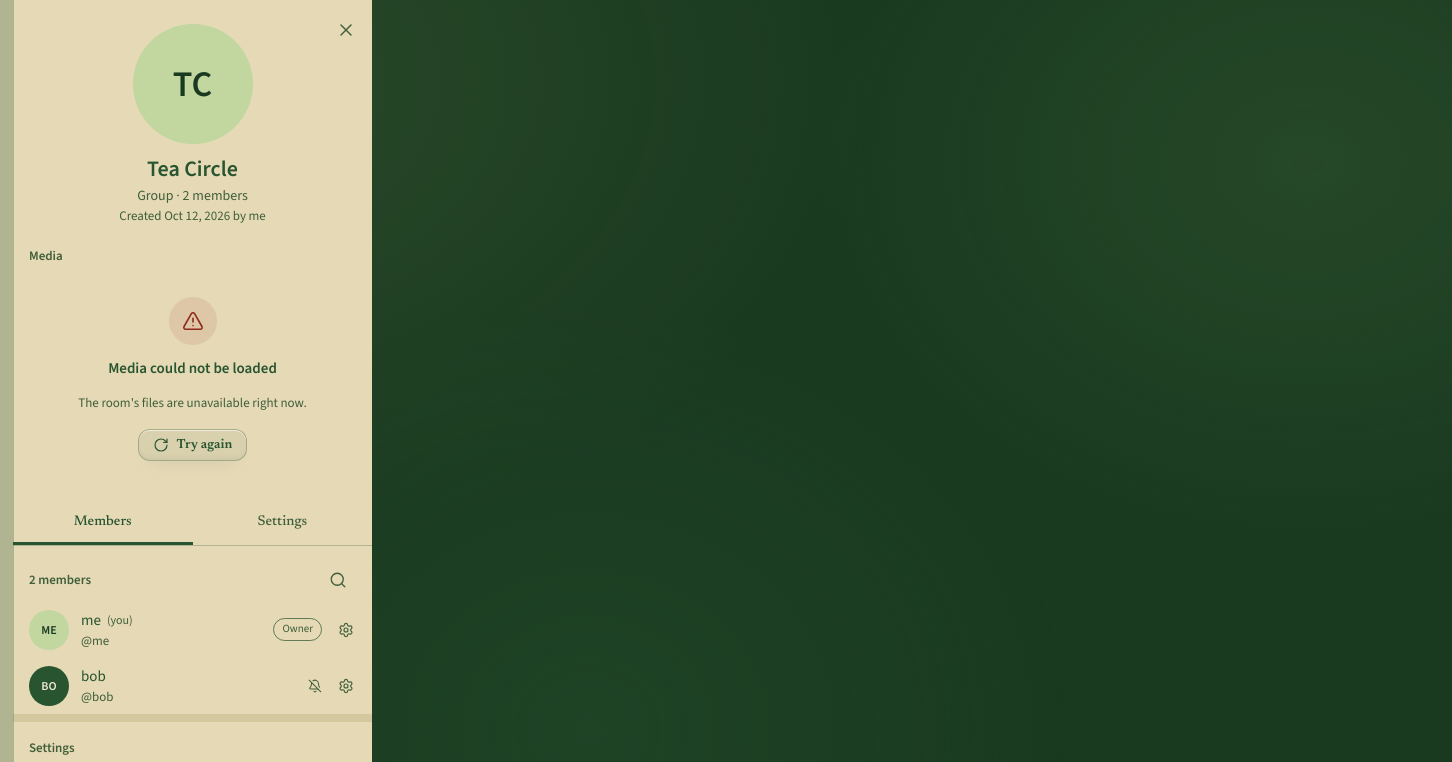
GroupInfoPanel › keeps a guest to the social items only
Click the button named "Member options for bob".
click(346, 686)  # box [328,668,364,704]
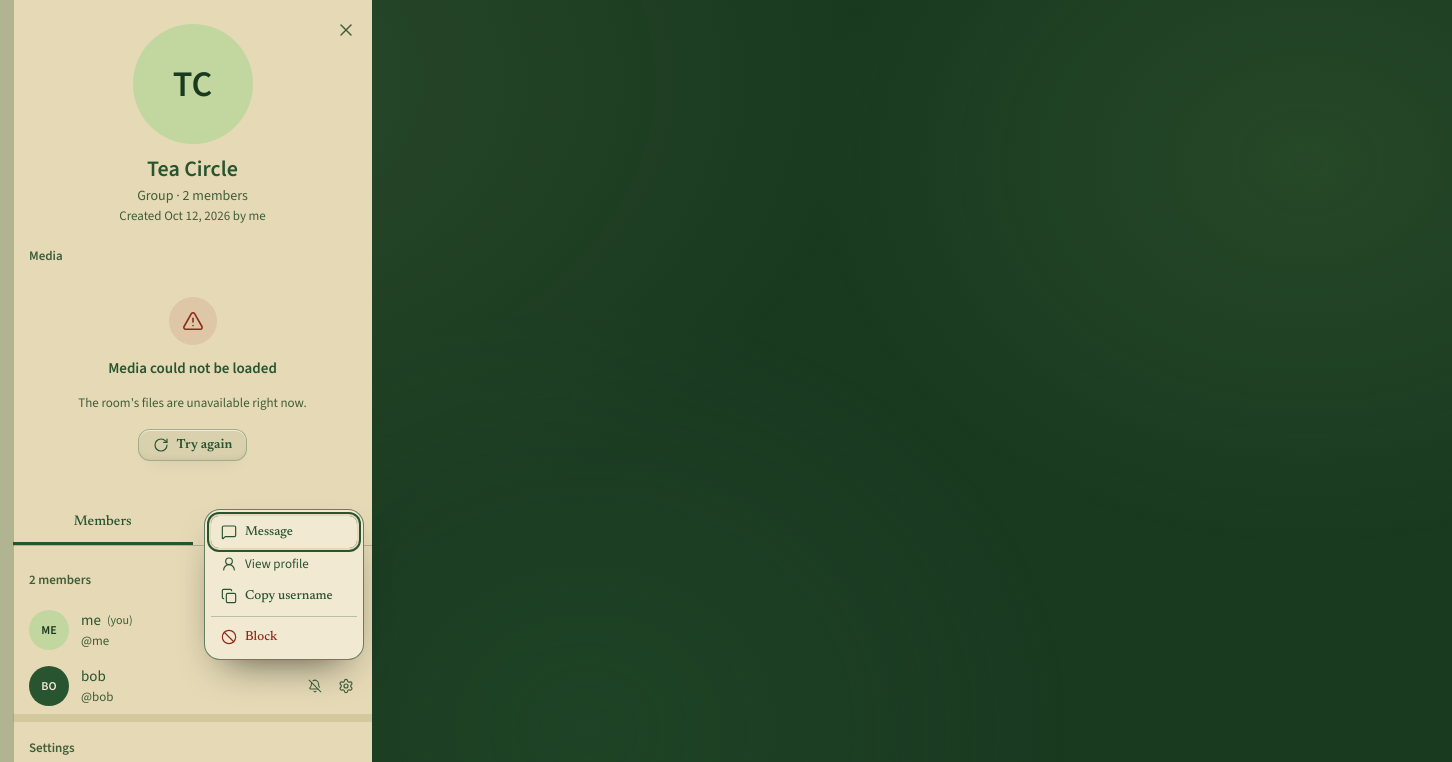
Now the menu items read "Message", "View profile", "Copy username", "Block", in this order, box [211,516,357,548]; [221,555,309,572]; [211,580,357,612]; [211,621,357,653]
